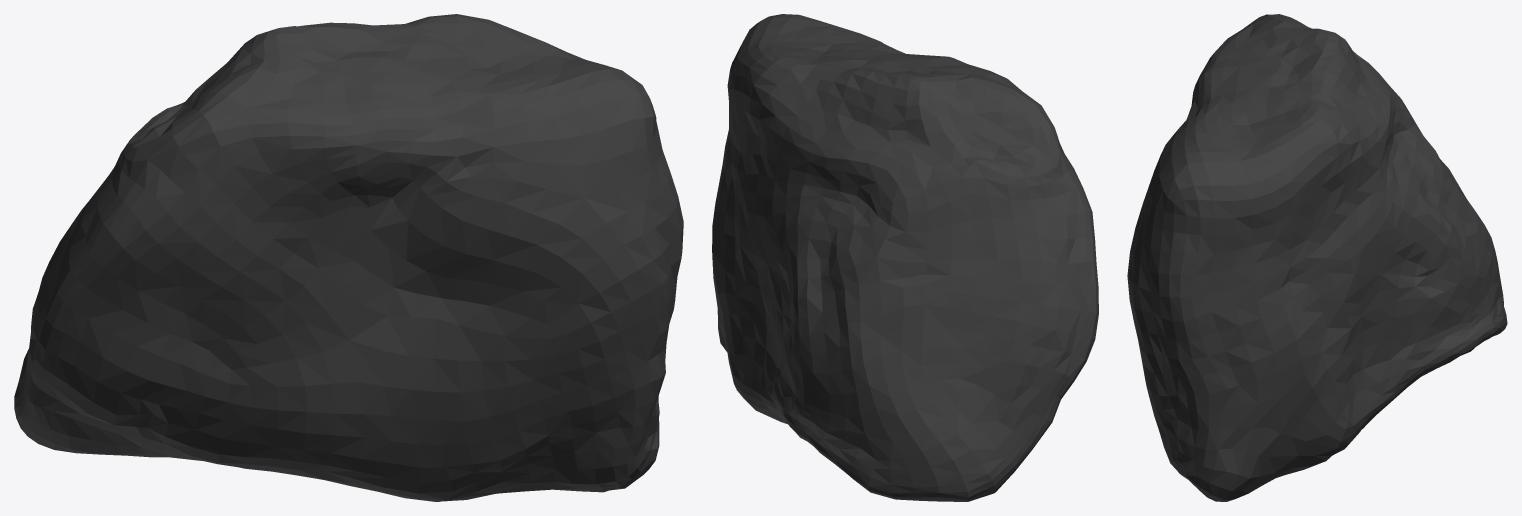
File: tarsal_II_L.glb
The picture shows the model from 3 angles, left to right: view 1: azimuth 30°, elevation 25°; view 2: azimuth 150°, elevation 25°; view 3: azimuth 270°, elevation 25°; orthographic projection. The views are drawn at different scales.
Visible parts, largest first — view 1: tarsal_II_L; view 2: tarsal_II_L; view 3: tarsal_II_L.
Part boxes in pixels (x1=…): tarsal_II_L: x1=14, y1=14, x2=683, y2=501; tarsal_II_L: x1=712, y1=14, x2=1098, y2=501; tarsal_II_L: x1=1127, y1=14, x2=1507, y2=501.
Size of the model in its own units: 0.0163 by 0.0137 by 0.0129.
Materials: 1 (1 with a texture image).
